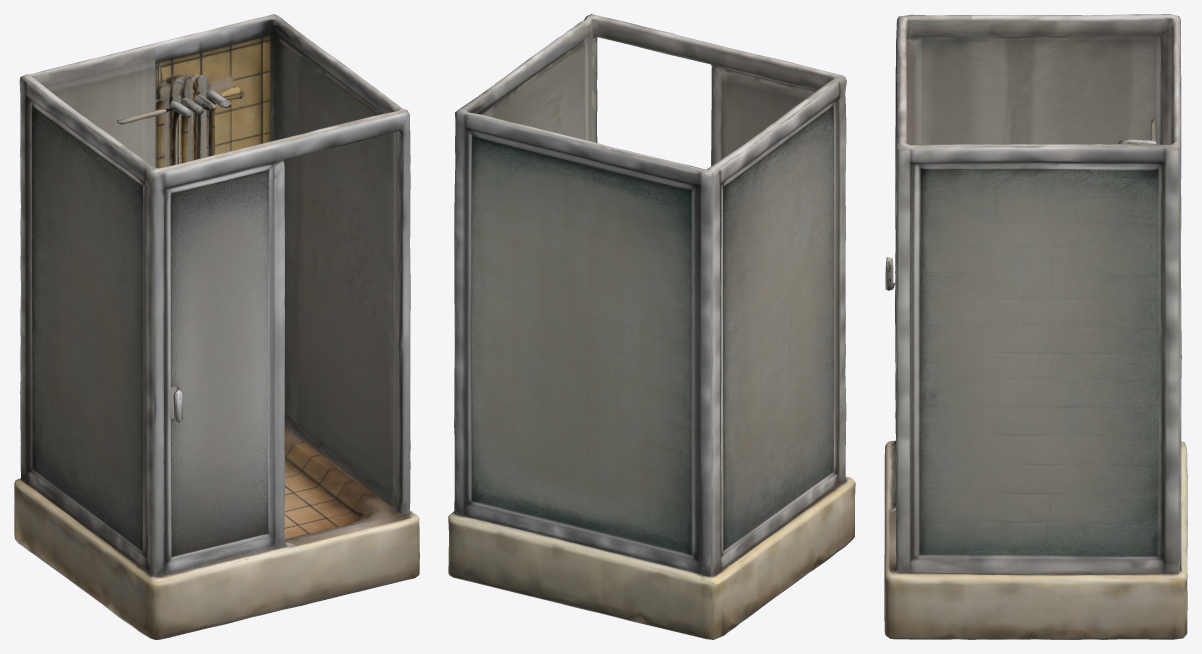
The model's file is Meshy_AI_Chuveiro_0124093010_texture.glb.
3 views of the same model, side by side, from view 1: azimuth 30°, elevation 25°; view 2: azimuth 150°, elevation 25°; view 3: azimuth 270°, elevation 25° (orthographic). The views are drawn at different scales.
Bounding box in the file's own units: 1.23 × 2.01 × 1.13.
Materials: 1 (1 with a texture image).
